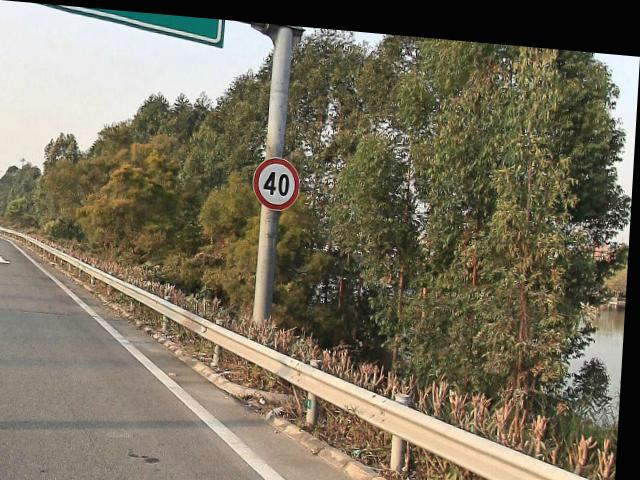limit40: (253, 150, 304, 208)
